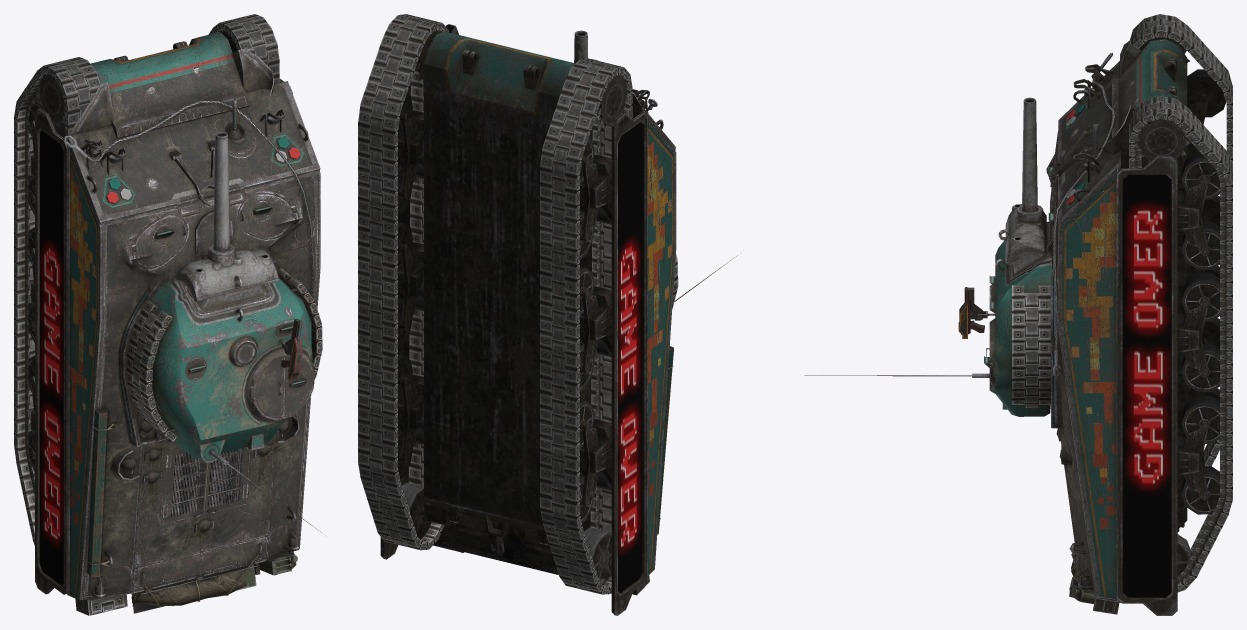
3 views of the same model, side by side, from view 1: azimuth 30°, elevation 25°; view 2: azimuth 150°, elevation 25°; view 3: azimuth 270°, elevation 25° (orthographic). The views are drawn at different scales.
Parts seen in each view (by area): view 1: hull, turret_01, hull_screen_txt, chassis_track_L, gun_01_mask, chassis_track_R, gun_01, chassis_wheel_L_01; view 2: hull, chassis_track_L, chassis_track_R, hull_screen_txt, chassis_wheel_L_11, chassis_wheel_L_01, chassis_wheel_R_11; view 3: hull, hull_screen_txt, turret_01, chassis_track_R, chassis_track_L, gun_01_mask, gun_01, chassis_wheel_R_01, chassis_wheel_R_05, chassis_wheel_R_08, chassis_wheel_L_02, chassis_wheel_R_03 (+3 smaller).
Part boxes in pixels (box(x1,y1,x2,y2)): hull: box(30, 32, 320, 615); turret_01: box(126, 268, 322, 532); hull_screen_txt: box(39, 130, 63, 585); chassis_track_L: box(14, 57, 100, 545); gun_01_mask: box(176, 243, 279, 301); chassis_track_R: box(208, 14, 279, 84); gun_01: box(213, 131, 229, 251); chassis_wheel_L_01: box(38, 73, 65, 127); hull: box(380, 24, 676, 615); chassis_track_L: box(540, 58, 632, 594); chassis_track_R: box(358, 14, 448, 550); hull_screen_txt: box(618, 122, 642, 592); chassis_wheel_L_11: box(584, 527, 611, 583); chassis_wheel_L_01: box(597, 75, 627, 130); chassis_wheel_R_11: box(402, 482, 431, 539); hull: box(1046, 39, 1209, 615); hull_screen_txt: box(1123, 174, 1171, 597); turret_01: box(804, 221, 1051, 416); chassis_track_R: box(1129, 96, 1232, 592); chassis_track_L: box(1130, 14, 1232, 466); gun_01_mask: box(998, 204, 1046, 265); gun_01: box(1022, 97, 1037, 212); chassis_wheel_R_01: box(1135, 118, 1189, 161); chassis_wheel_R_05: box(1181, 273, 1219, 321); chassis_wheel_R_08: box(1181, 396, 1219, 443); chassis_wheel_L_02: box(1187, 69, 1225, 117); chassis_wheel_R_03: box(1181, 221, 1219, 269).
Bounding box in the file's own units: 2.77 × 6.06 × 4.96.
4 materials, 4 textured.
